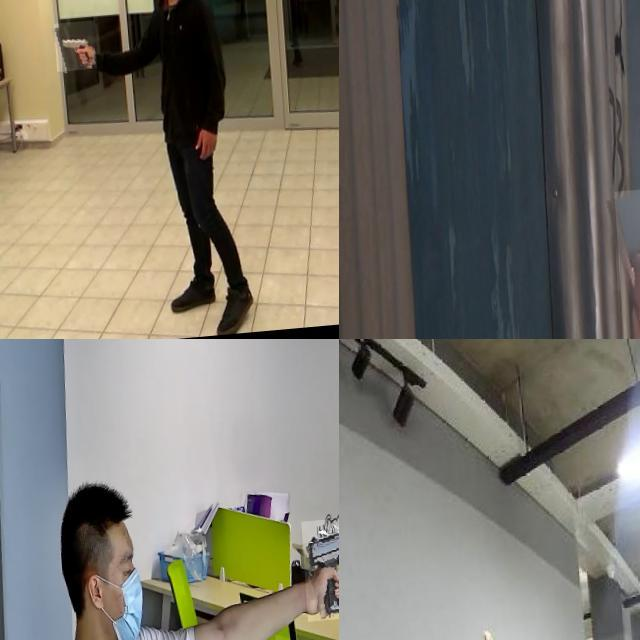gun-knife-thesis - v11 Yolov5 augmented: (296, 526, 339, 631), (610, 192, 640, 339), (49, 24, 92, 74)
